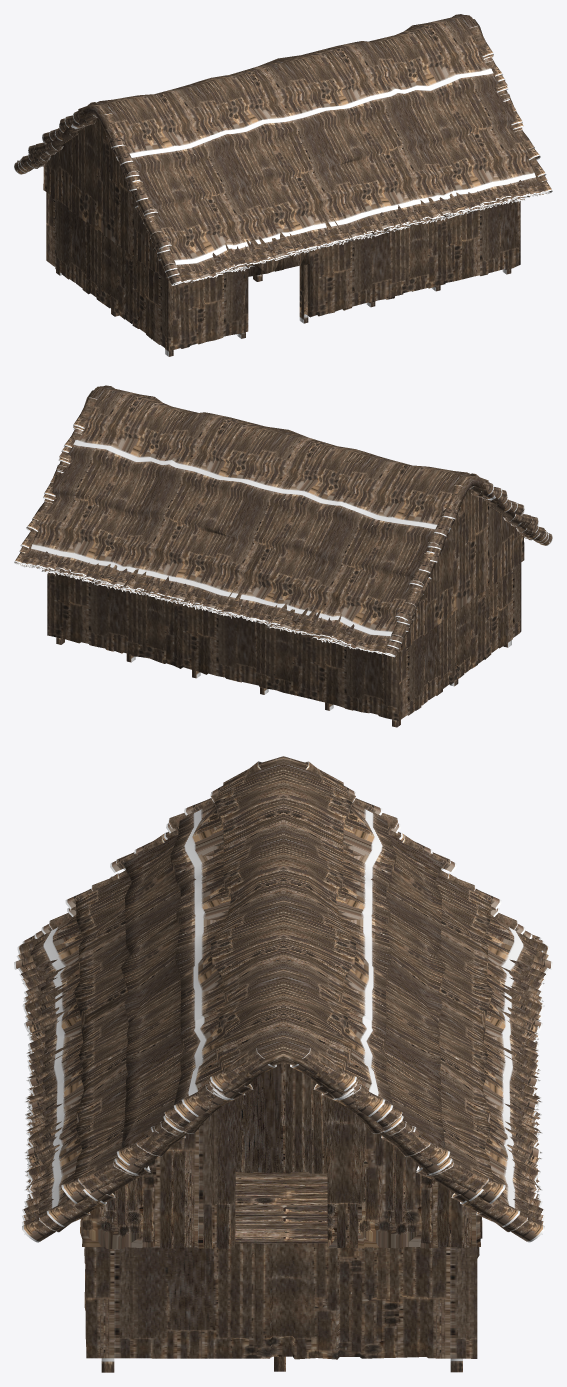
The model's file is Close_Hut_.fbx.
3 views of the same model, one above another, from view 1: azimuth 30°, elevation 25°; view 2: azimuth 150°, elevation 25°; view 3: azimuth 270°, elevation 25° (orthographic). The views are drawn at different scales.
Visible parts, largest first — view 1: oldhouse_barn_LOD1:barn_LOD1_2, oldhouse_barn_LOD1:barn_LOD1_0, oldhouse_barn_LOD1:barn_LOD1_3, oldhouse_barn_LOD1:barn_LOD1_1; view 2: oldhouse_barn_LOD1:barn_LOD1_2, oldhouse_barn_LOD1:barn_LOD1_0, oldhouse_barn_LOD1:barn_LOD1_3, oldhouse_barn_LOD1:barn_LOD1_1; view 3: oldhouse_barn_LOD1:barn_LOD1_2, oldhouse_barn_LOD1:barn_LOD1_0, oldhouse_barn_LOD1:barn_LOD1_3.
Boxes of the visible parts, box(x1,y1,x2,y2) form: oldhouse_barn_LOD1:barn_LOD1_2: box(33, 14, 540, 272); oldhouse_barn_LOD1:barn_LOD1_0: box(43, 118, 520, 350); oldhouse_barn_LOD1:barn_LOD1_3: box(14, 14, 552, 285); oldhouse_barn_LOD1:barn_LOD1_1: box(56, 265, 511, 356); oldhouse_barn_LOD1:barn_LOD1_2: box(26, 386, 533, 643); oldhouse_barn_LOD1:barn_LOD1_0: box(47, 489, 524, 720); oldhouse_barn_LOD1:barn_LOD1_3: box(14, 385, 552, 657); oldhouse_barn_LOD1:barn_LOD1_1: box(56, 637, 511, 727); oldhouse_barn_LOD1:barn_LOD1_2: box(30, 756, 536, 1221); oldhouse_barn_LOD1:barn_LOD1_0: box(80, 1063, 482, 1359); oldhouse_barn_LOD1:barn_LOD1_3: box(14, 761, 552, 1242).
Size of the model in its own units: 55.38 by 29.47 by 42.46.
Materials: 1 (1 with a texture image).
